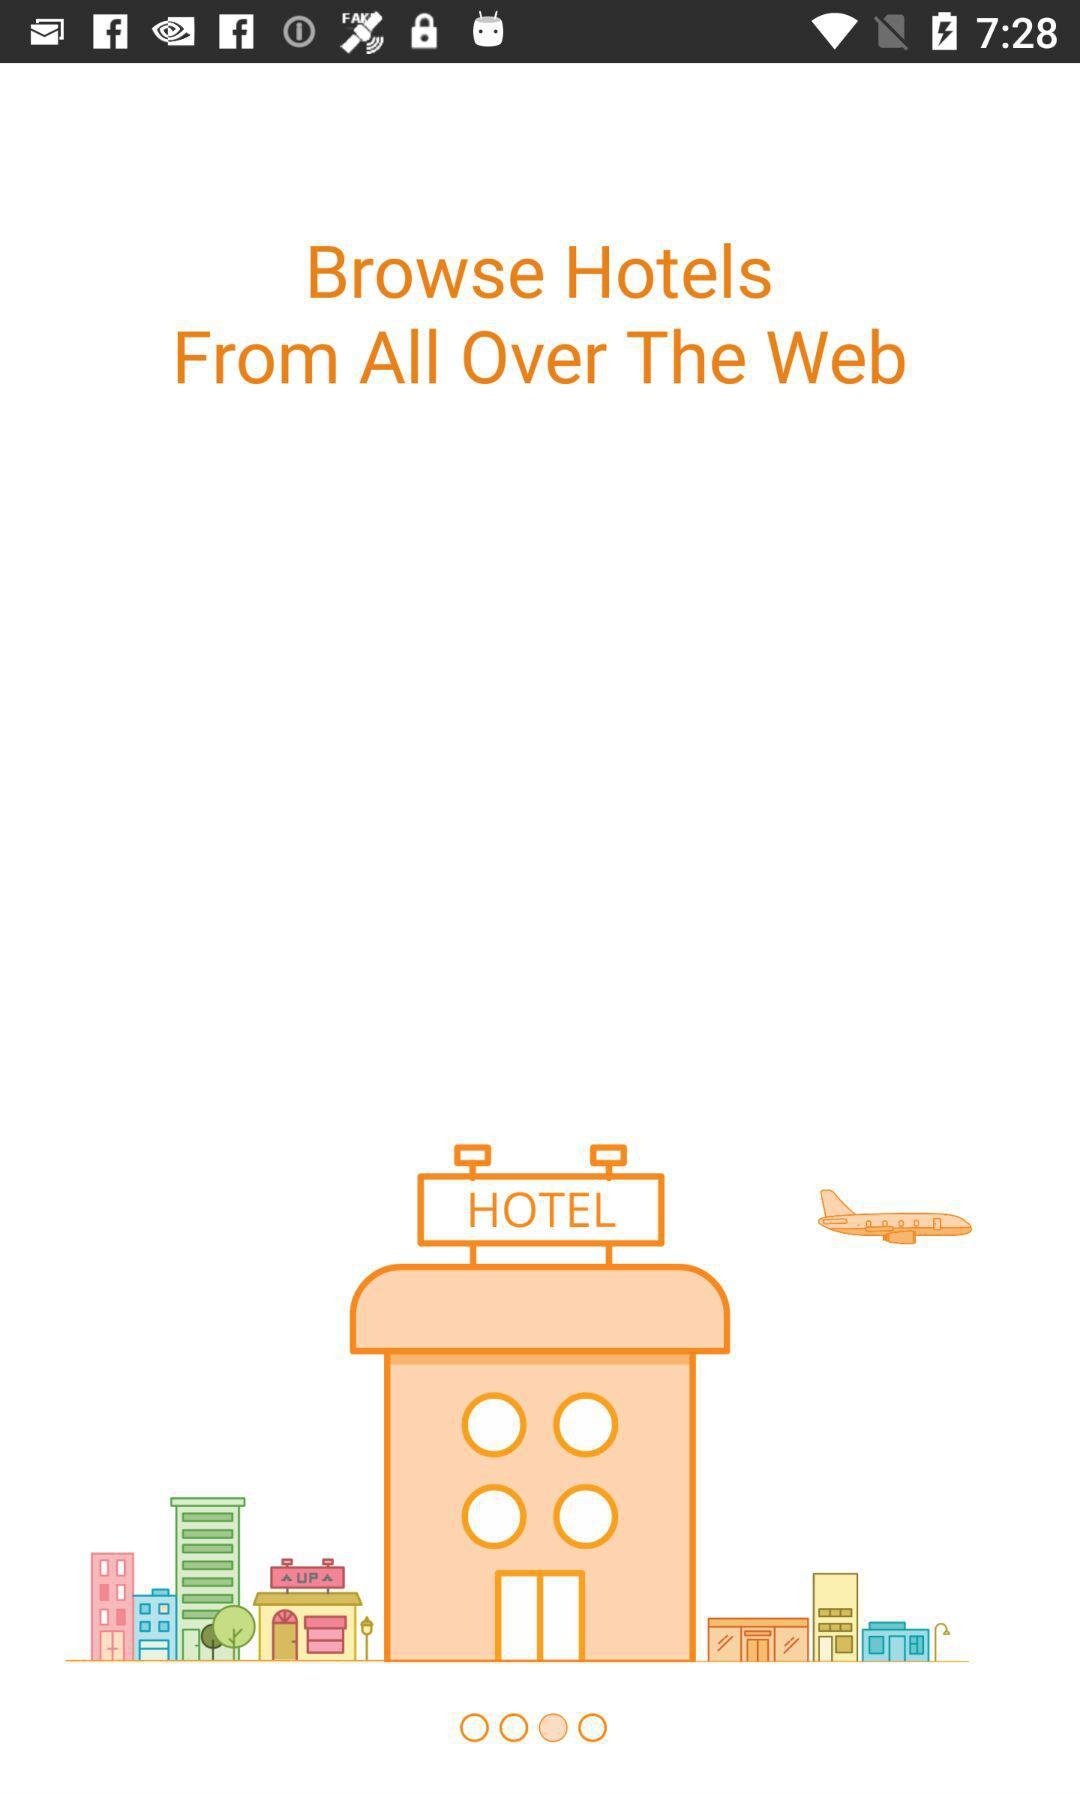Image: (64, 1143, 972, 1663)
PageIndicator: (459, 1712, 609, 1743)
Text: (177, 242, 906, 386)
UpperTaskBar: (1, 1, 1080, 64)
